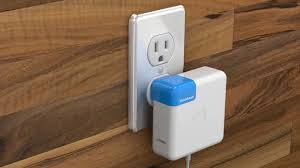outlet: (152, 38, 170, 63)
